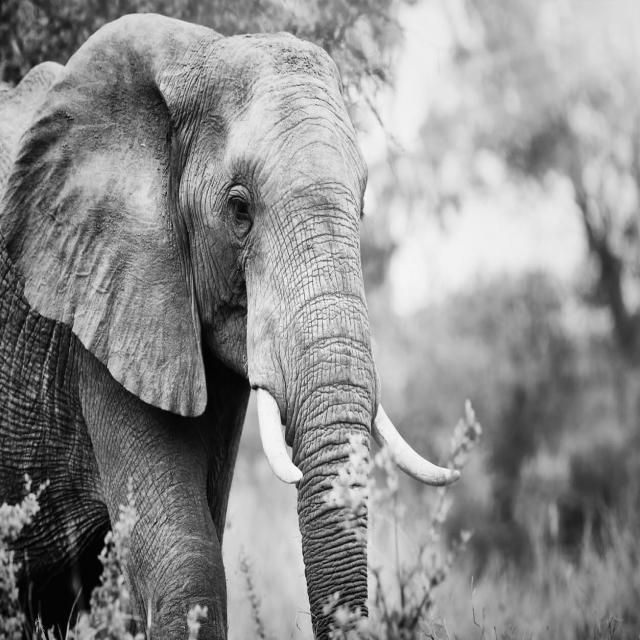Elephant: (0, 11, 461, 638)
